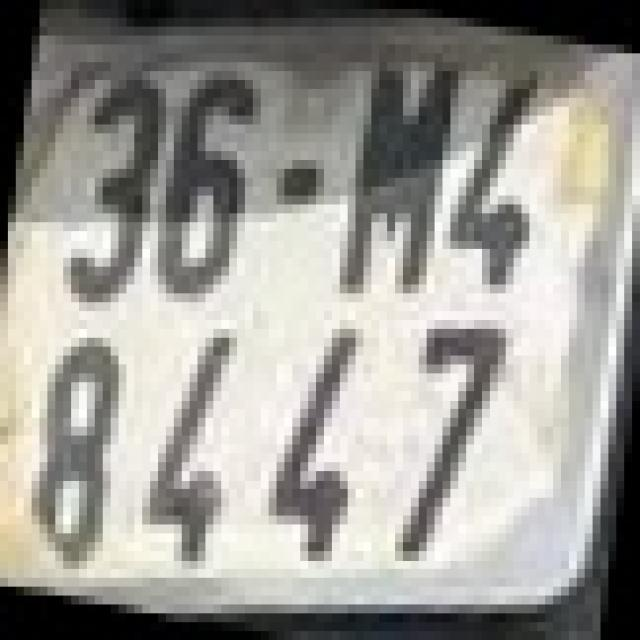3: (63, 71, 158, 302)
4: (268, 320, 356, 560), (450, 62, 538, 294), (142, 329, 229, 560)
6: (158, 71, 253, 293)
7: (396, 320, 514, 560)
8: (32, 338, 118, 569)
M: (344, 49, 454, 298)
